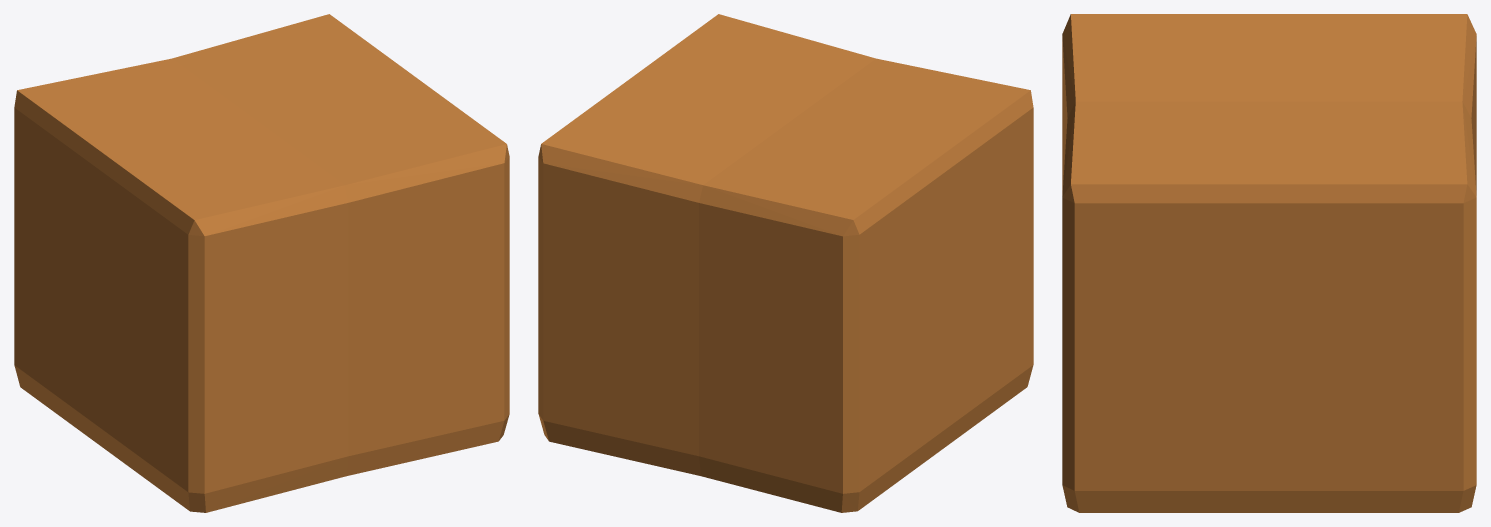
The model's file is Prop_Junk_Cardboard_Box_02.FBX.
3 renders of one model, left to right at view 1: azimuth 30°, elevation 25°; view 2: azimuth 150°, elevation 25°; view 3: azimuth 270°, elevation 25°, orthographic. The views are drawn at different scales.
Visible parts, largest first — view 1: Prop_Junk_Cardboard_Box_02; view 2: Prop_Junk_Cardboard_Box_02; view 3: Prop_Junk_Cardboard_Box_02.
Part boxes in pixels (x1,y1,x2,y2): Prop_Junk_Cardboard_Box_02: (14,14,509,512); Prop_Junk_Cardboard_Box_02: (538,14,1033,512); Prop_Junk_Cardboard_Box_02: (1062,14,1476,512).
Bounding box in the file's own units: 397 × 347 × 397.
